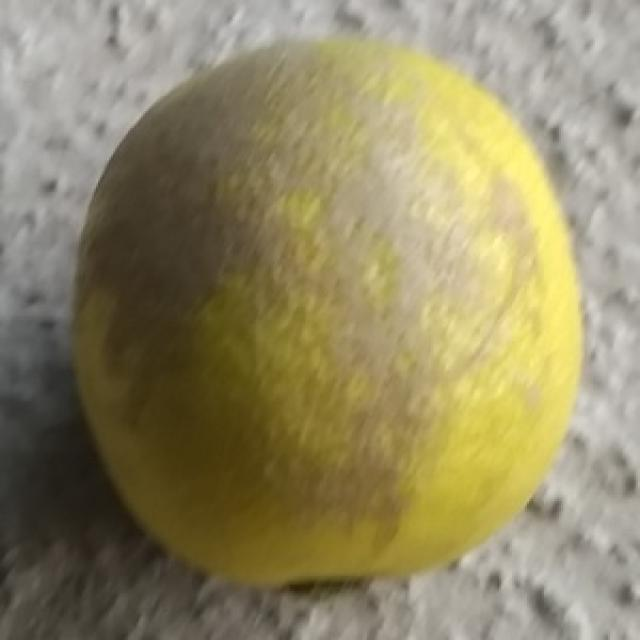overripe: (64, 23, 588, 601)
